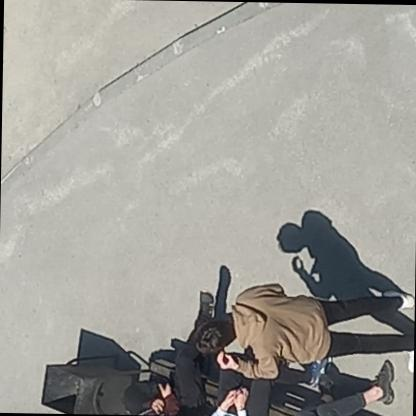Human Body: (196, 282, 414, 382)
